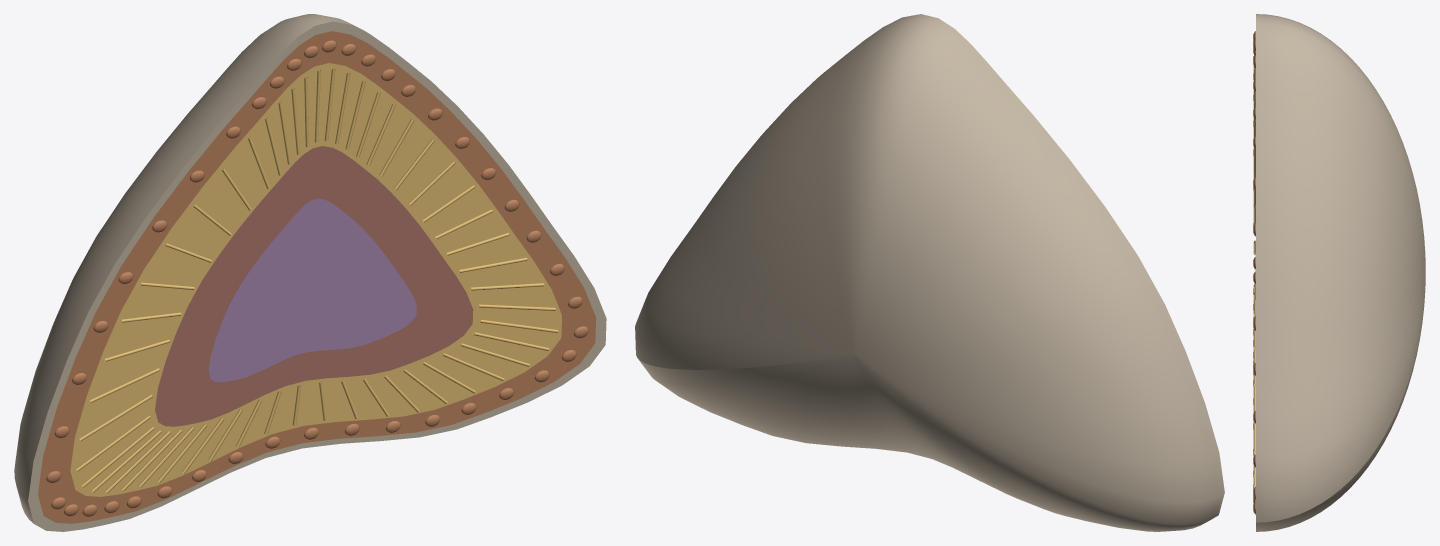
File: adrenal-section.glb
3 views of the same model, side by side, from view 1: azimuth 30°, elevation 25°; view 2: azimuth 150°, elevation 25°; view 3: azimuth 270°, elevation 25° (orthographic). The views are drawn at different scales.
Parts seen in each view (by area): view 1: fasciculata, glomerulosa, reticularis, capsule, medulla; view 2: capsule; view 3: capsule, fasciculata, glomerulosa.
Part boxes in pixels (<box>): fasciculata: <box>70,63,561,496</box>; glomerulosa: <box>38,31,596,523</box>; reticularis: <box>155,146,473,426</box>; capsule: <box>14,14,606,531</box>; medulla: <box>208,198,416,382</box>; capsule: <box>635,14,1224,531</box>; capsule: <box>1256,14,1425,531</box>; fasciculata: <box>1253,66,1255,488</box>; glomerulosa: <box>1253,31,1255,514</box>.
Bounding box in the file's own units: 2.29 × 1.7 × 0.6205.
